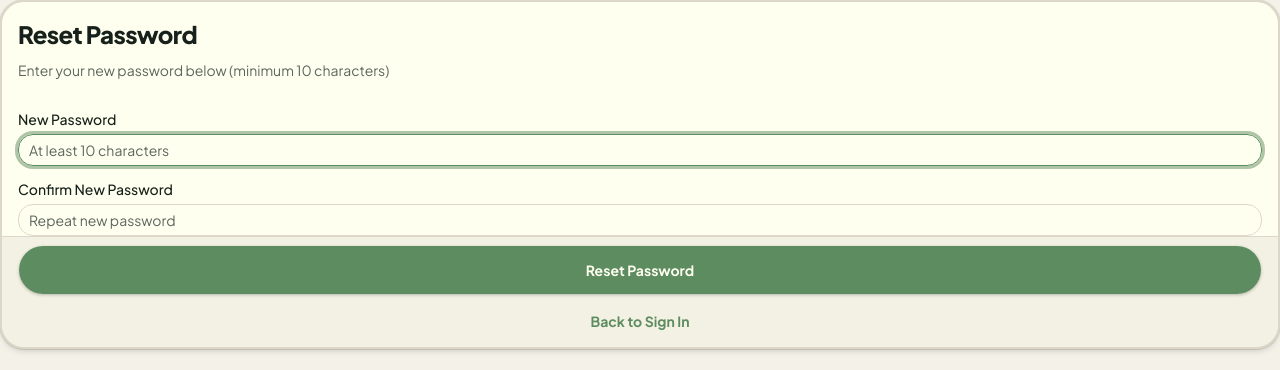
Test case: Auth Email Pages Component Tests › ResetPasswordPage › submits valid reset password request and displays success feedback
The width and height of the screenshot is (1280, 370).
Type "my-secure-password-123" into the password field labelled "New Password" at (640, 150), box [18,134,1262,166]
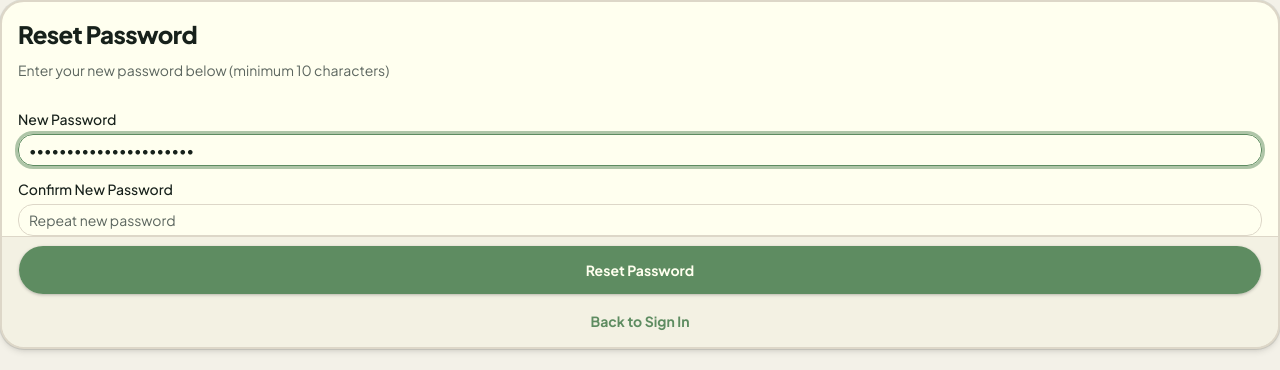
Type "my-secure-password-123" into the password field labelled "Confirm New Password" at (640, 220), box [18,204,1262,236]
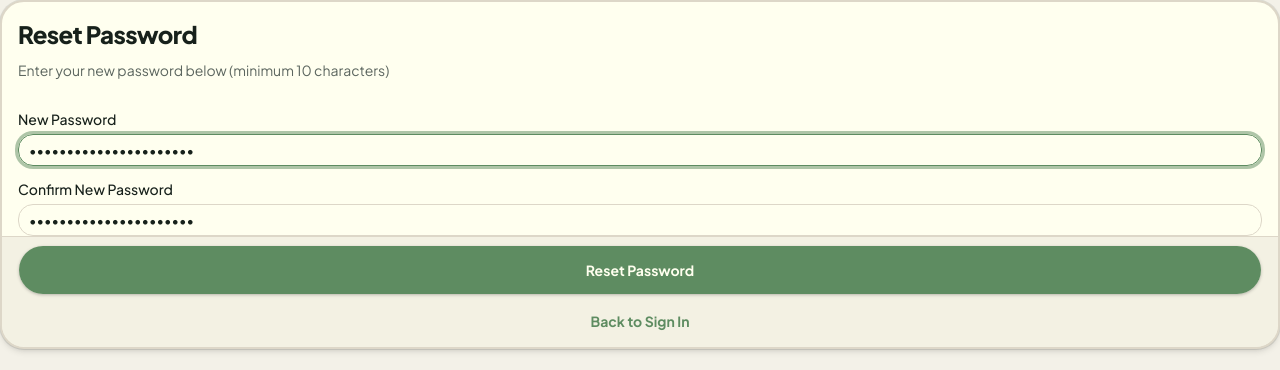
Click the button "Reset Password" at (640, 270), box [18,245,1262,295]
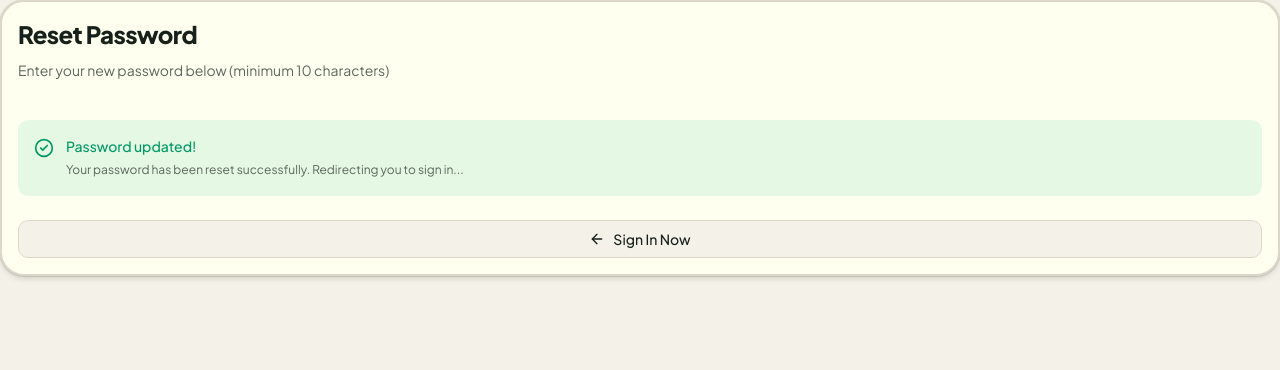
Expected: the text "Password updated!" is shown, [66,137,196,155]
